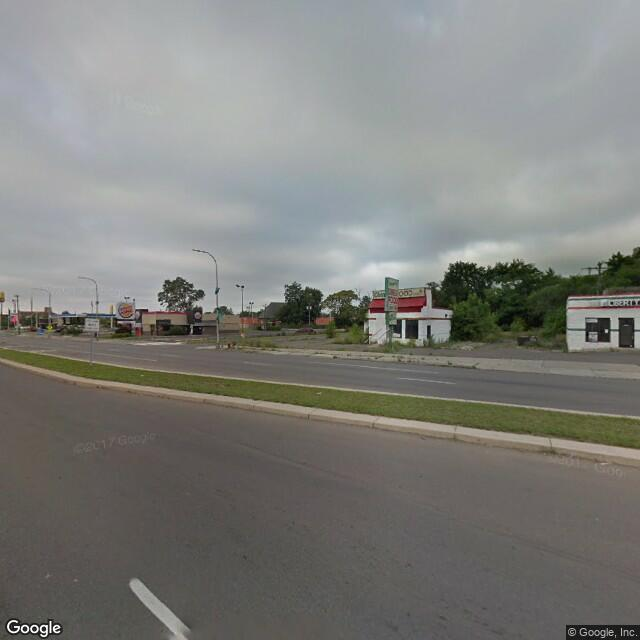litter: (596, 458, 614, 467), (315, 389, 326, 396), (138, 371, 149, 376)
